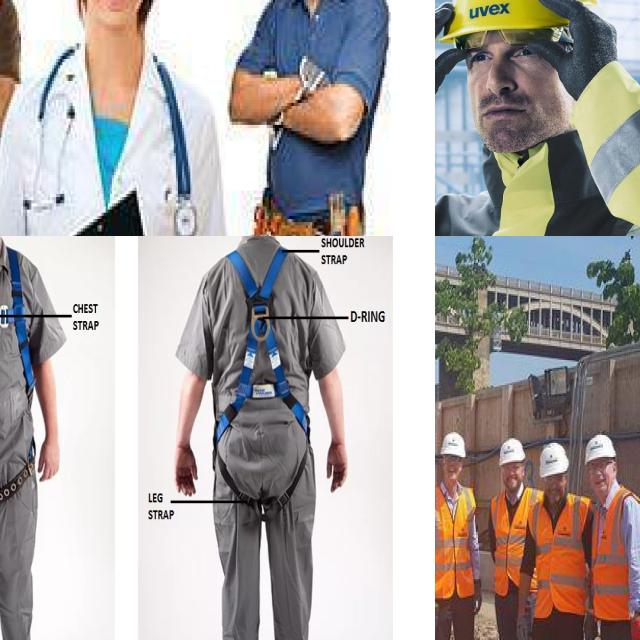Harness: (211, 247, 310, 516), (0, 243, 38, 508)
face_nomask: (452, 37, 560, 160)
hand_glove: (511, 0, 640, 76), (435, 0, 461, 119), (508, 604, 532, 640), (435, 599, 448, 640), (624, 607, 640, 640)
head_helmet: (439, 0, 602, 40), (538, 440, 568, 479), (583, 434, 618, 463), (497, 437, 526, 466), (440, 432, 468, 458)
person: (0, 0, 229, 236), (435, 0, 640, 236), (233, 0, 388, 236), (520, 443, 589, 640), (588, 433, 640, 640), (435, 433, 481, 640), (485, 438, 528, 640)
vest: (529, 490, 589, 620), (589, 486, 640, 624), (492, 488, 540, 592), (435, 482, 477, 598)
